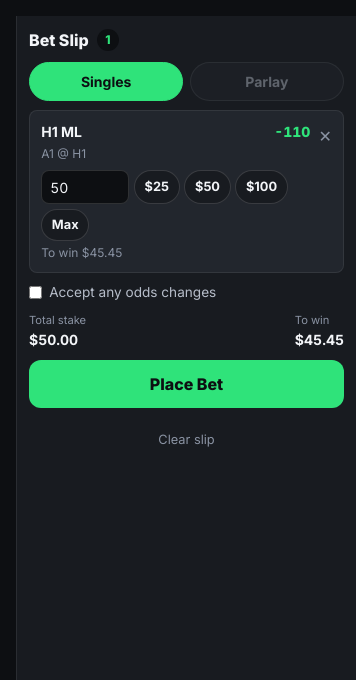
it: BetSlip › shows a moved price and places at it on Accept & Place (Review Focus 1)
Step 1. Click the button "Place Bet" → (186, 384), box [29,360,344,408]
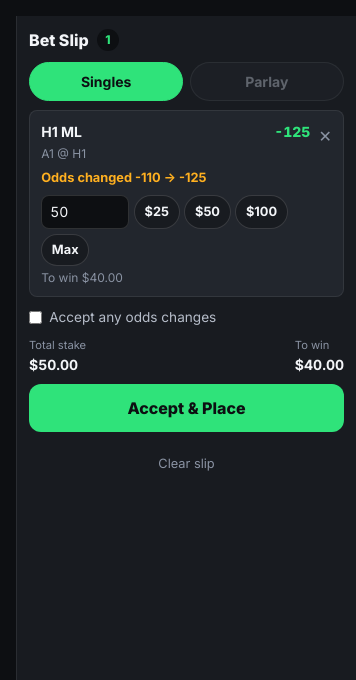
Expected: the text "BET PLACED ✓" is not shown
Now the text "Odds changed -110 → -125" is shown, box [41,170,207,185]
Step 2. Click the button "Accept & Place" → (186, 408), box [29,384,344,432]
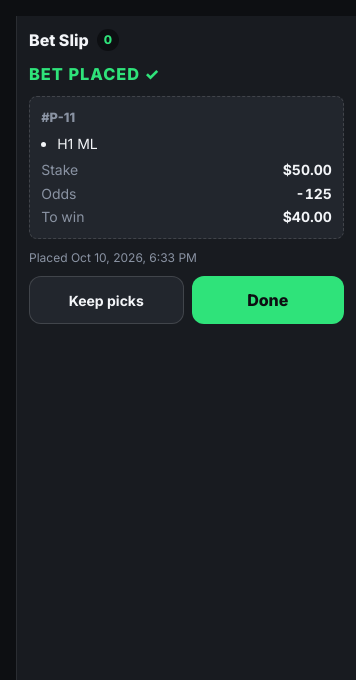
Now the text "#P-11" is shown, box [41,110,75,125]
